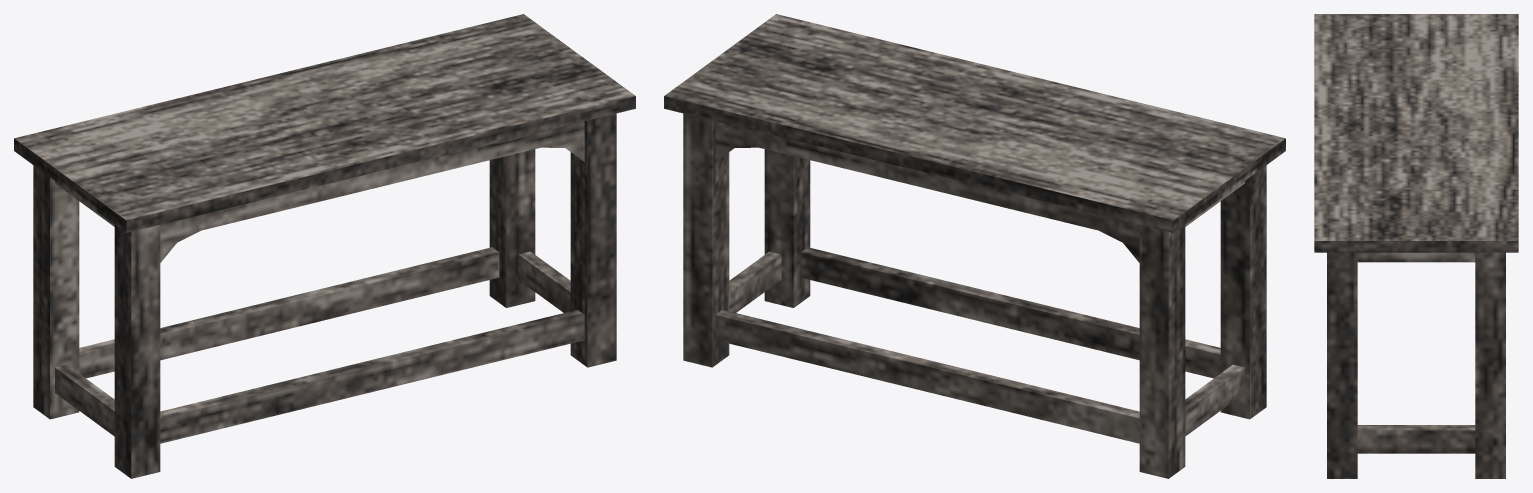
Rendered from table03.fbx.
The picture shows the model from 3 angles, left to right: view 1: azimuth 30°, elevation 25°; view 2: azimuth 150°, elevation 25°; view 3: azimuth 270°, elevation 25°; orthographic projection. The views are drawn at different scales.
Parts seen in each view (by area): view 1: wood_table03; view 2: wood_table03; view 3: wood_table03.
Part boxes in pixels (x1,y1,x2,y2): wood_table03: [14, 14, 635, 478]; wood_table03: [664, 14, 1285, 478]; wood_table03: [1314, 14, 1518, 478].
Bounding box in the file's own units: 315 × 158 × 120.
